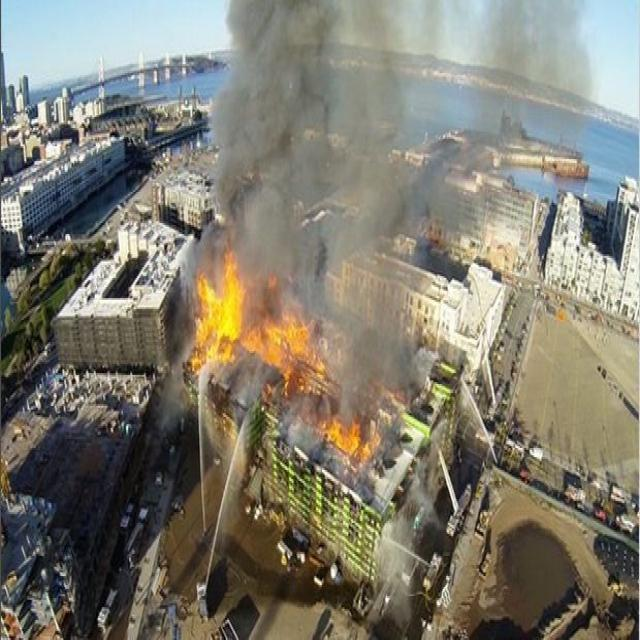Fire: (192, 266, 258, 376), (252, 307, 320, 392), (328, 413, 389, 479)
Smoke: (228, 11, 355, 300), (330, 125, 438, 382)
